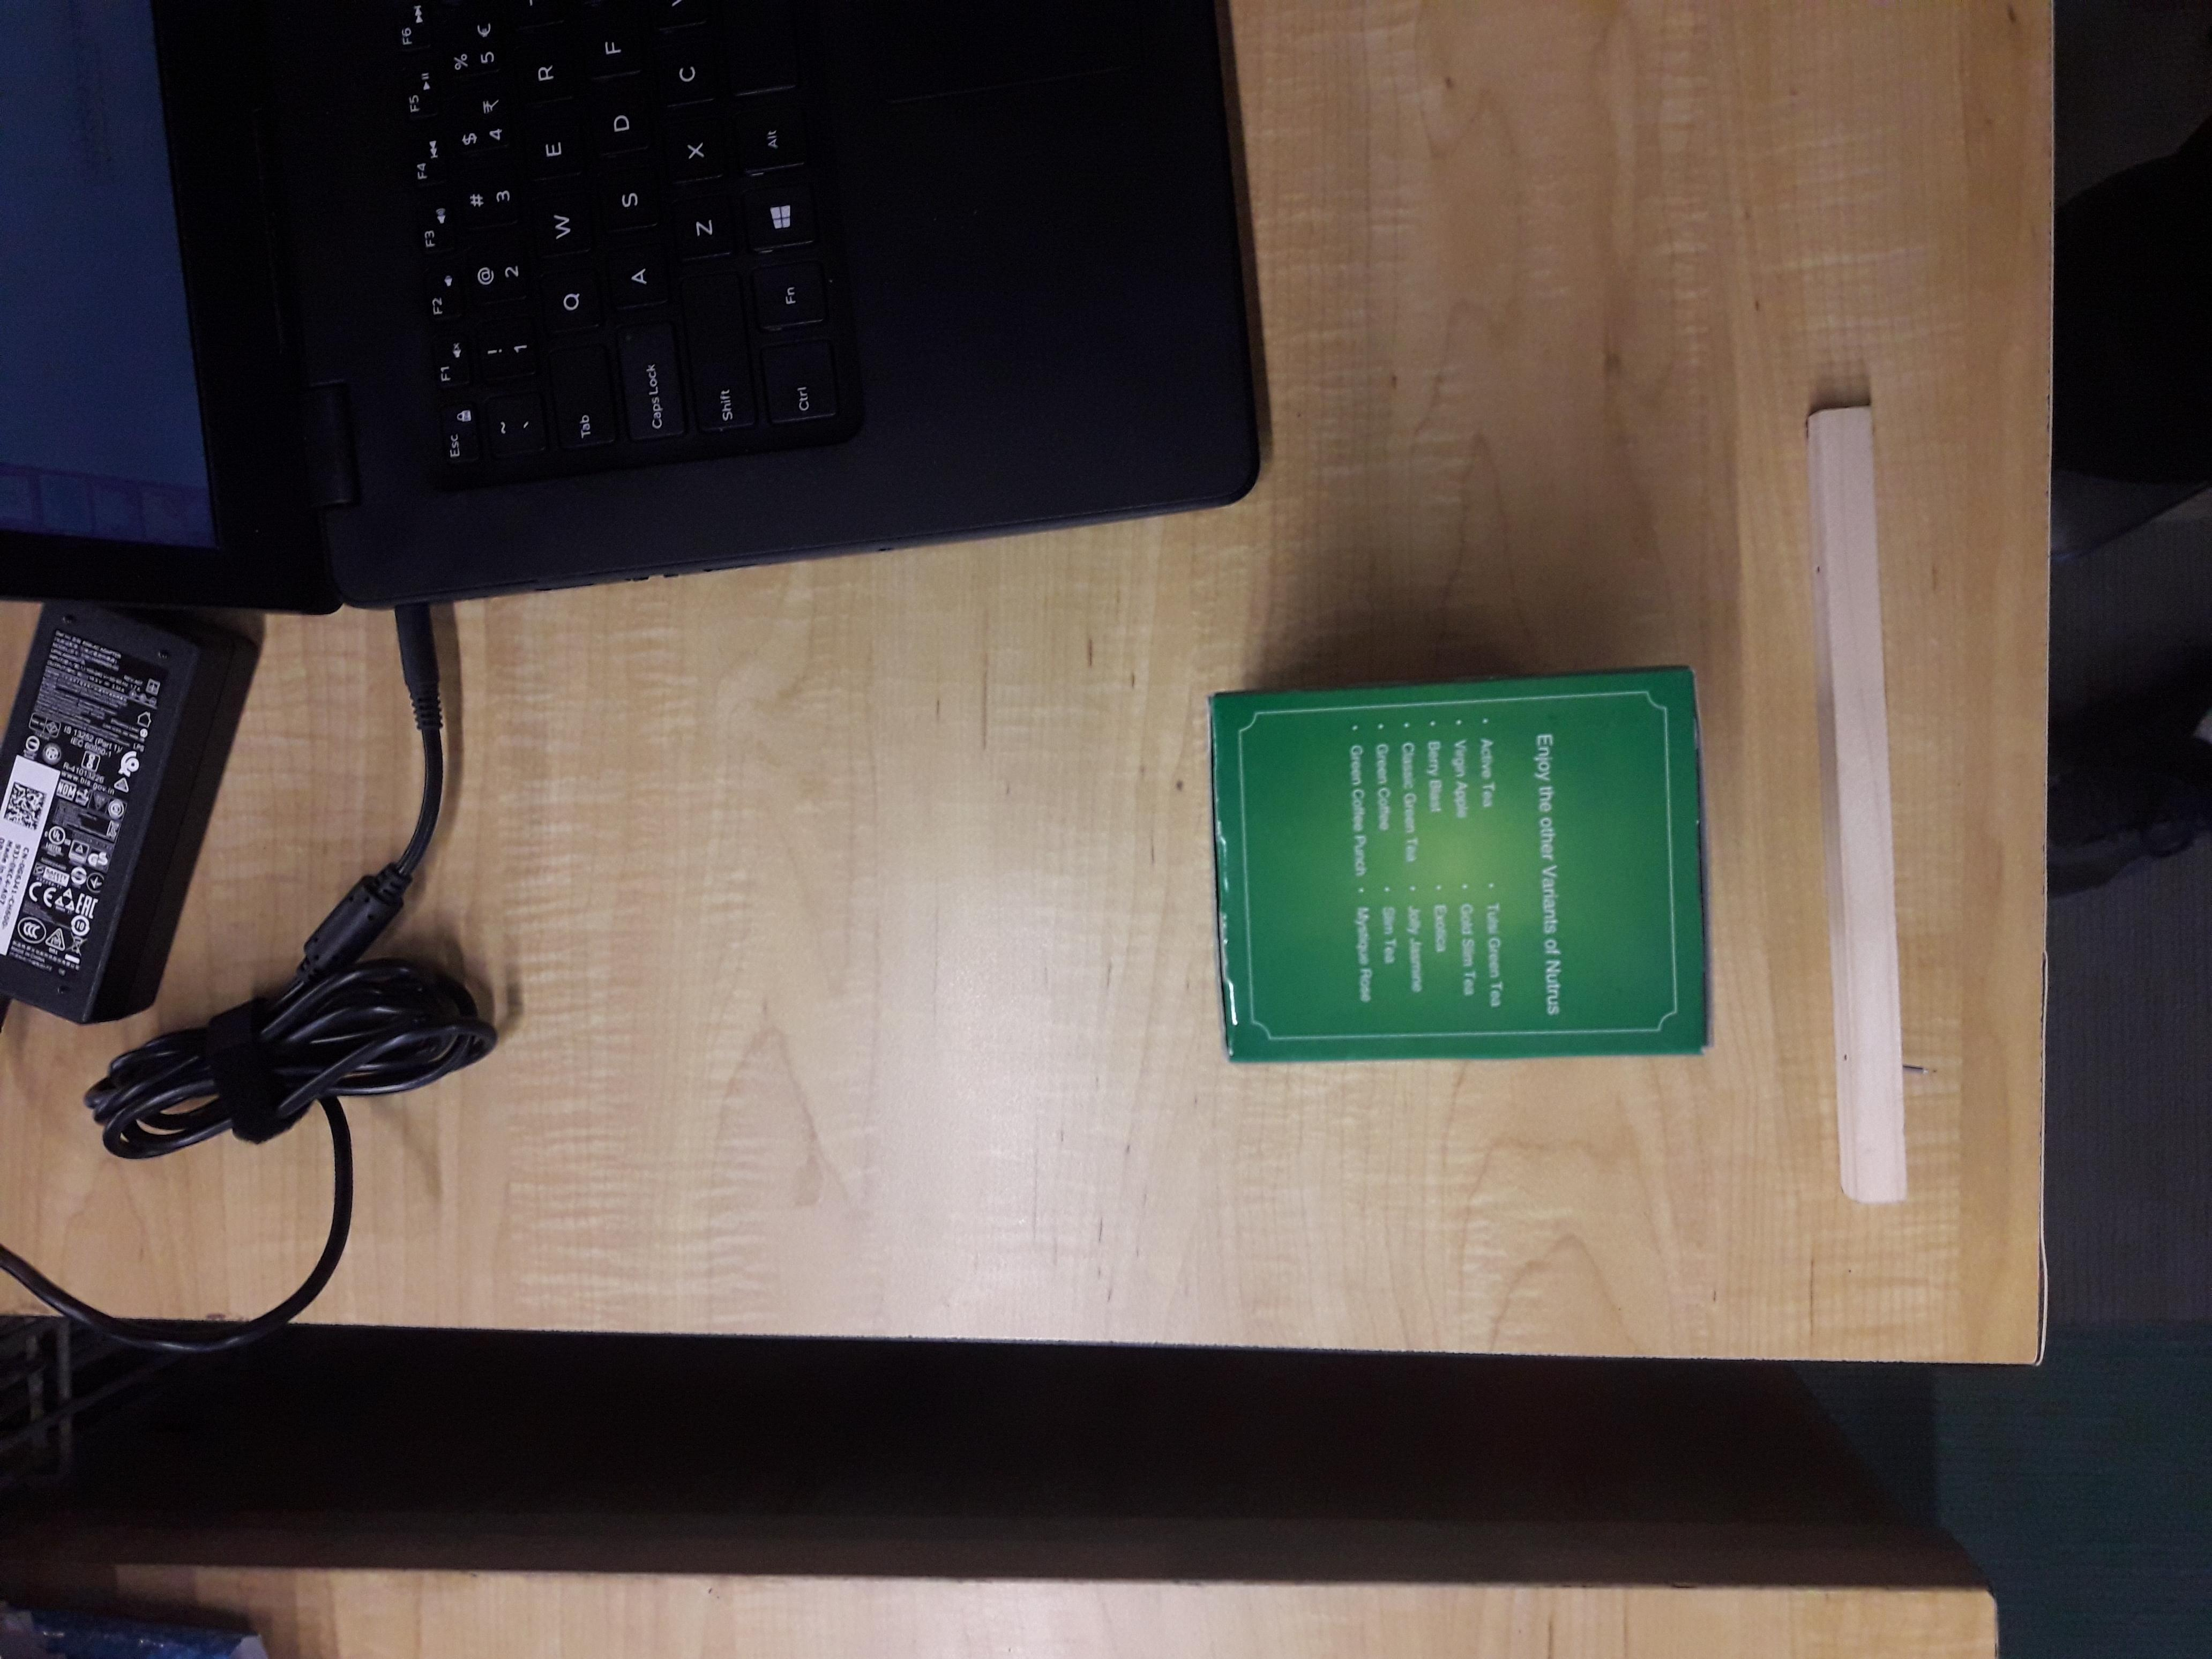object: (1214, 666, 1710, 1058)
reference: (1818, 404, 1909, 1206)
